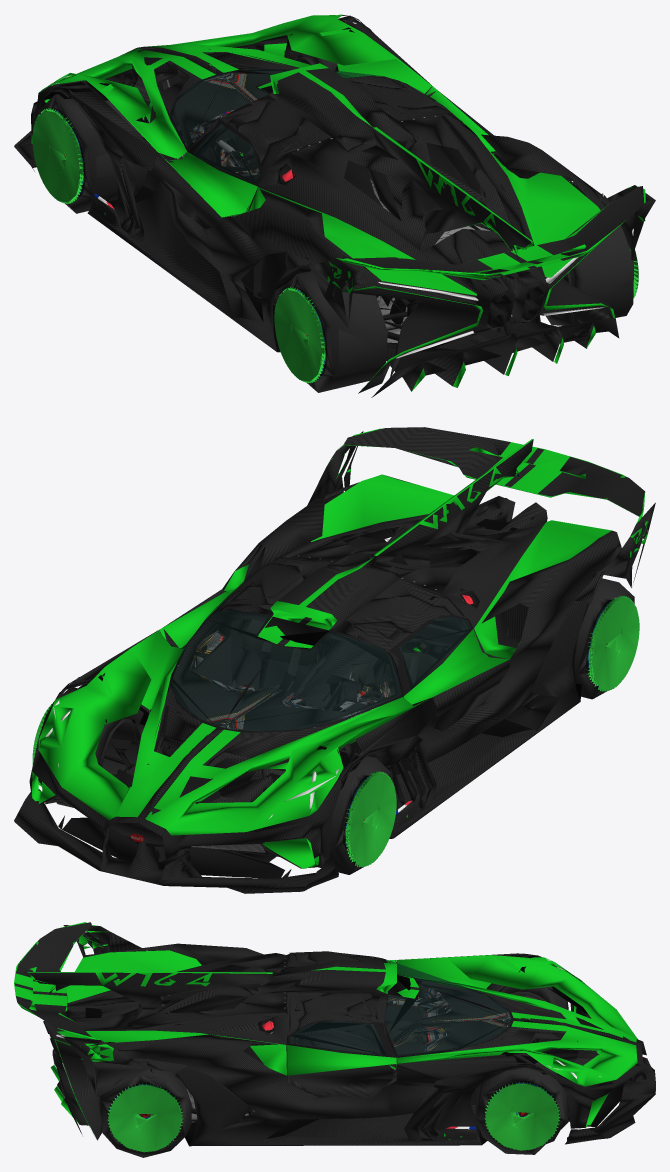
File: bolide_lo.glb
3 renders of one model, top to bottom at view 1: azimuth 30°, elevation 25°; view 2: azimuth 150°, elevation 25°; view 3: azimuth 270°, elevation 25°, orthographic. The views are drawn at different scales.
Visible parts, largest first — view 1: body, wheel_RL, wheel_FL, wheel_RR; view 2: body, wheel_FL, wheel_RL, wheel_FR; view 3: body, wheel_FR, wheel_RR, wheel_FL.
Part boxes in pixels (x1,y1,x2,y2): body: [14, 14, 655, 397]; wheel_RL: [274, 271, 387, 392]; wheel_FL: [32, 94, 147, 213]; wheel_RR: [545, 225, 638, 325]; body: [14, 427, 655, 893]; wheel_FL: [317, 749, 396, 874]; wheel_RL: [574, 578, 639, 699]; wheel_FR: [32, 687, 144, 807]; body: [14, 922, 655, 1146]; wheel_FR: [475, 1062, 568, 1154]; wheel_RR: [98, 1058, 191, 1157]; wheel_FL: [486, 983, 568, 1042].
Size of what is drawn, in the model's own units: 2.12 by 1.09 by 4.76.
16 materials, 10 textured.
